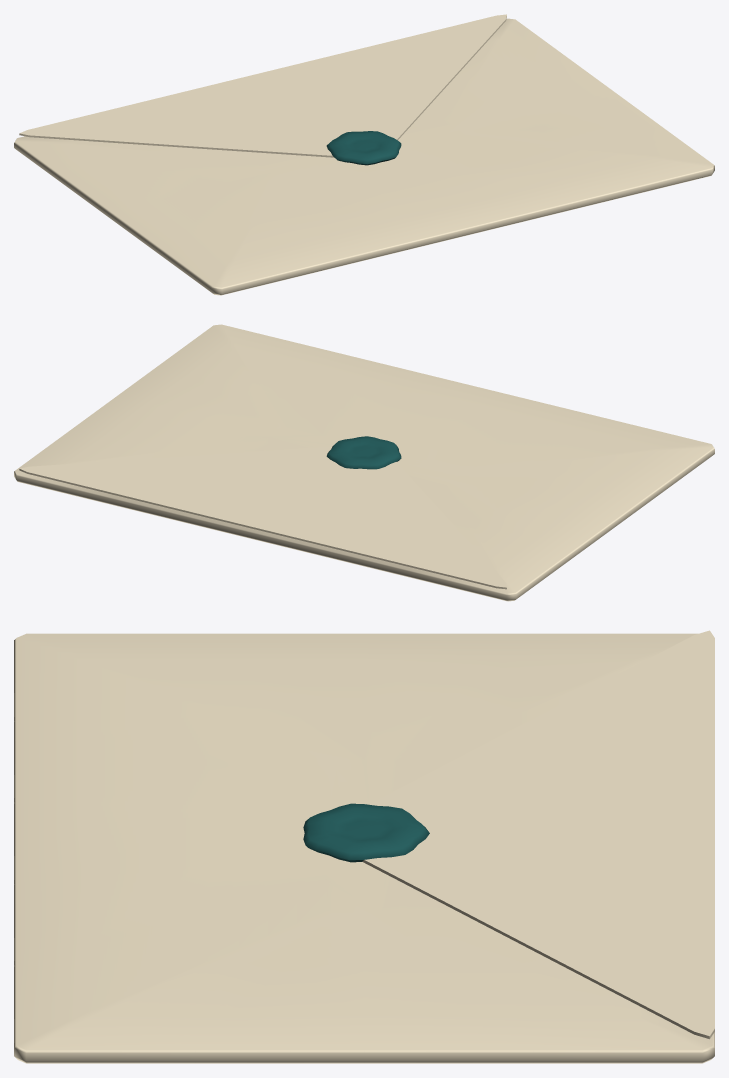
File: letter_envelope.glb
3 views of the same model, one above another, from view 1: azimuth 30°, elevation 25°; view 2: azimuth 150°, elevation 25°; view 3: azimuth 270°, elevation 25° (orthographic). The views are drawn at different scales.
Visible parts, largest first — view 1: Letter_Envelope, Letter_Flap, Letter_Seal; view 2: Letter_Envelope, Letter_Flap, Letter_Seal; view 3: Letter_Envelope, Letter_Flap, Letter_Seal.
Boxes of the visible parts, x1,y1,x2,y2 form: Letter_Envelope: (14,18,714,295); Letter_Flap: (19,14,506,157); Letter_Seal: (326,131,401,165); Letter_Envelope: (14,324,714,601); Letter_Flap: (19,446,506,589); Letter_Seal: (326,436,401,469); Letter_Envelope: (14,633,714,1063); Letter_Flap: (362,630,714,1039); Letter_Seal: (303,803,429,862).
Bounding box in the file's own units: 0.12 × 0.004 × 0.085.
